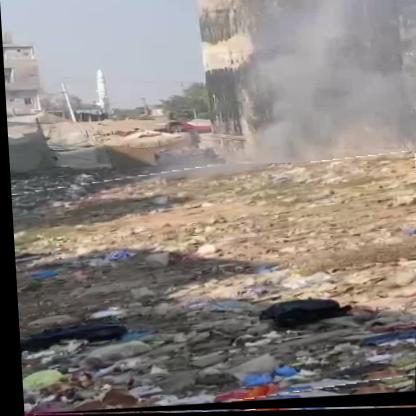Garbage: (8, 162, 416, 416)
